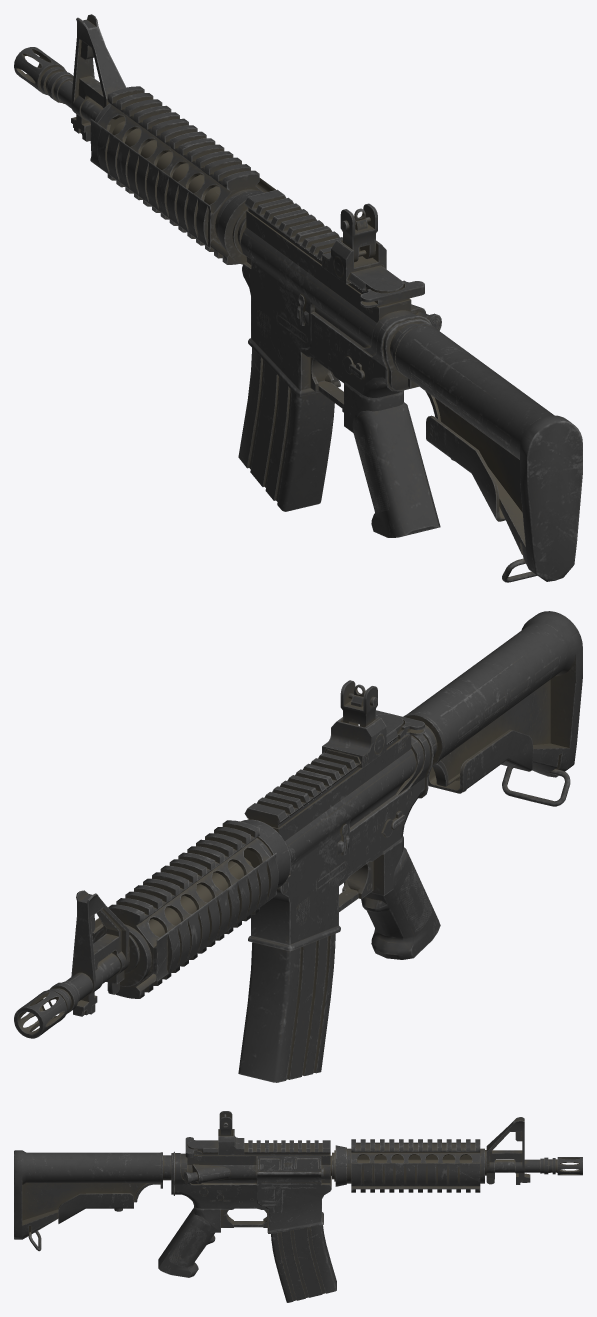
The picture shows the model from 3 angles, top to bottom: view 1: azimuth 30°, elevation 25°; view 2: azimuth 150°, elevation 25°; view 3: azimuth 270°, elevation 25°; orthographic projection. The views are drawn at different scales.
Visible parts, largest first — view 1: Frame, Magazine, ChargingHandle; view 2: Frame, Magazine; view 3: Frame, Magazine.
Part boxes in pixels (x1,y1,x2,y2): Frame: [14, 14, 582, 582]; Magazine: [238, 348, 334, 511]; ChargingHandle: [360, 280, 424, 307]; Frame: [14, 611, 582, 1038]; Magazine: [238, 933, 335, 1082]; Frame: [14, 1111, 582, 1277]; Magazine: [271, 1225, 336, 1302].
Bounding box in the file's own units: 0.0736 × 0.2805 × 0.7867.
1 material, 1 textured.
